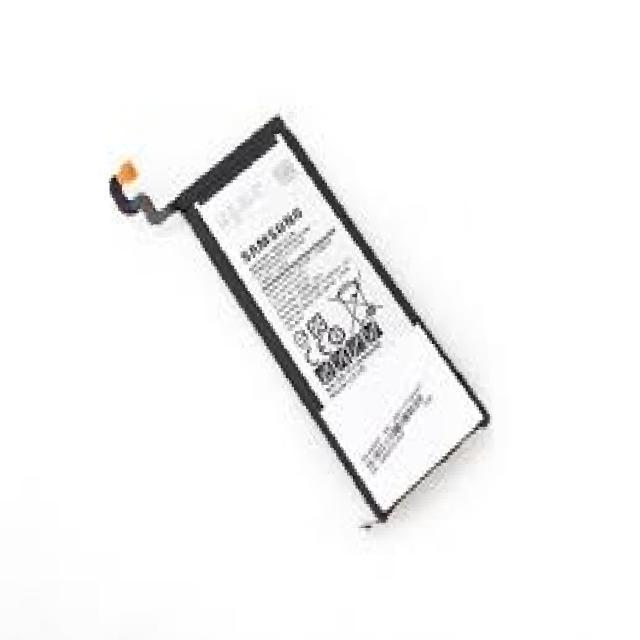Battery: (86, 79, 549, 541)
